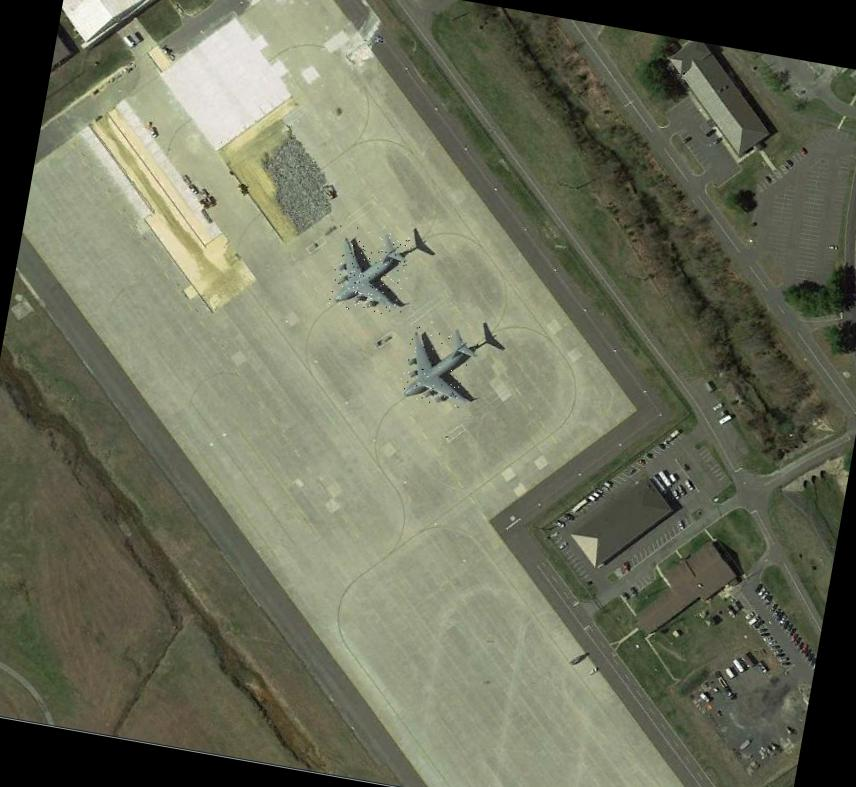A3: (326, 224, 414, 318), (397, 323, 483, 410)
